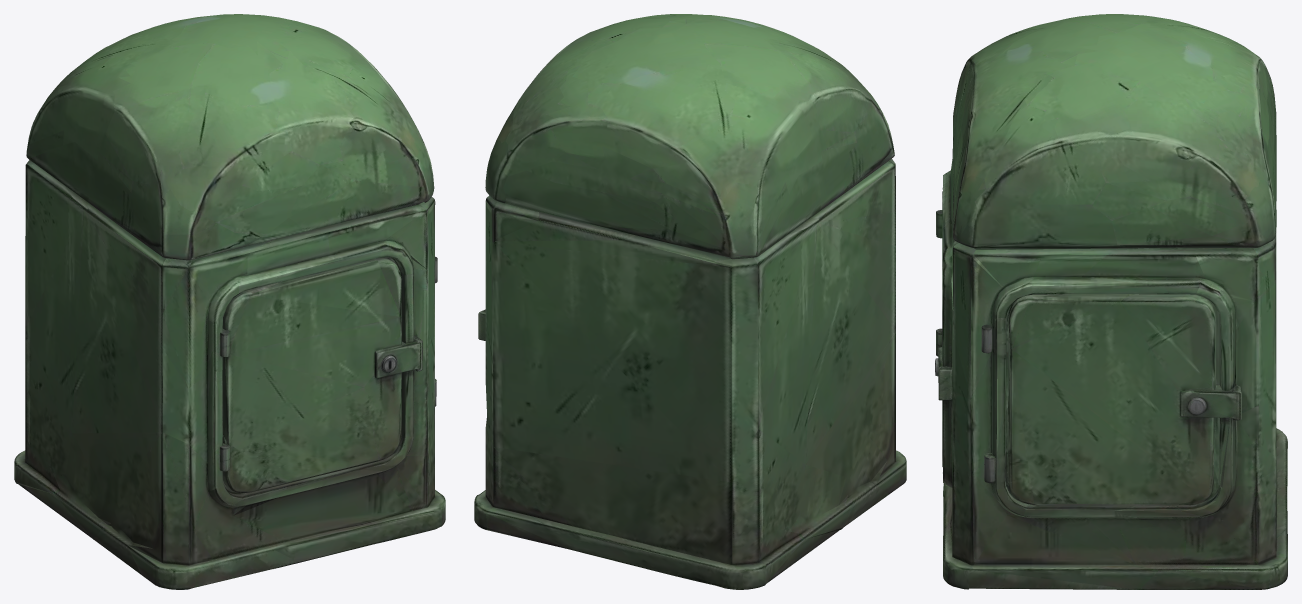
Rendered from lv_pillar.glb.
3 views of the same model, side by side, from view 1: azimuth 30°, elevation 25°; view 2: azimuth 150°, elevation 25°; view 3: azimuth 270°, elevation 25° (orthographic). The views are drawn at different scales.
Size of the model in its own units: 1.29 by 1.9 by 1.27.
Materials: 1 (1 with a texture image).
